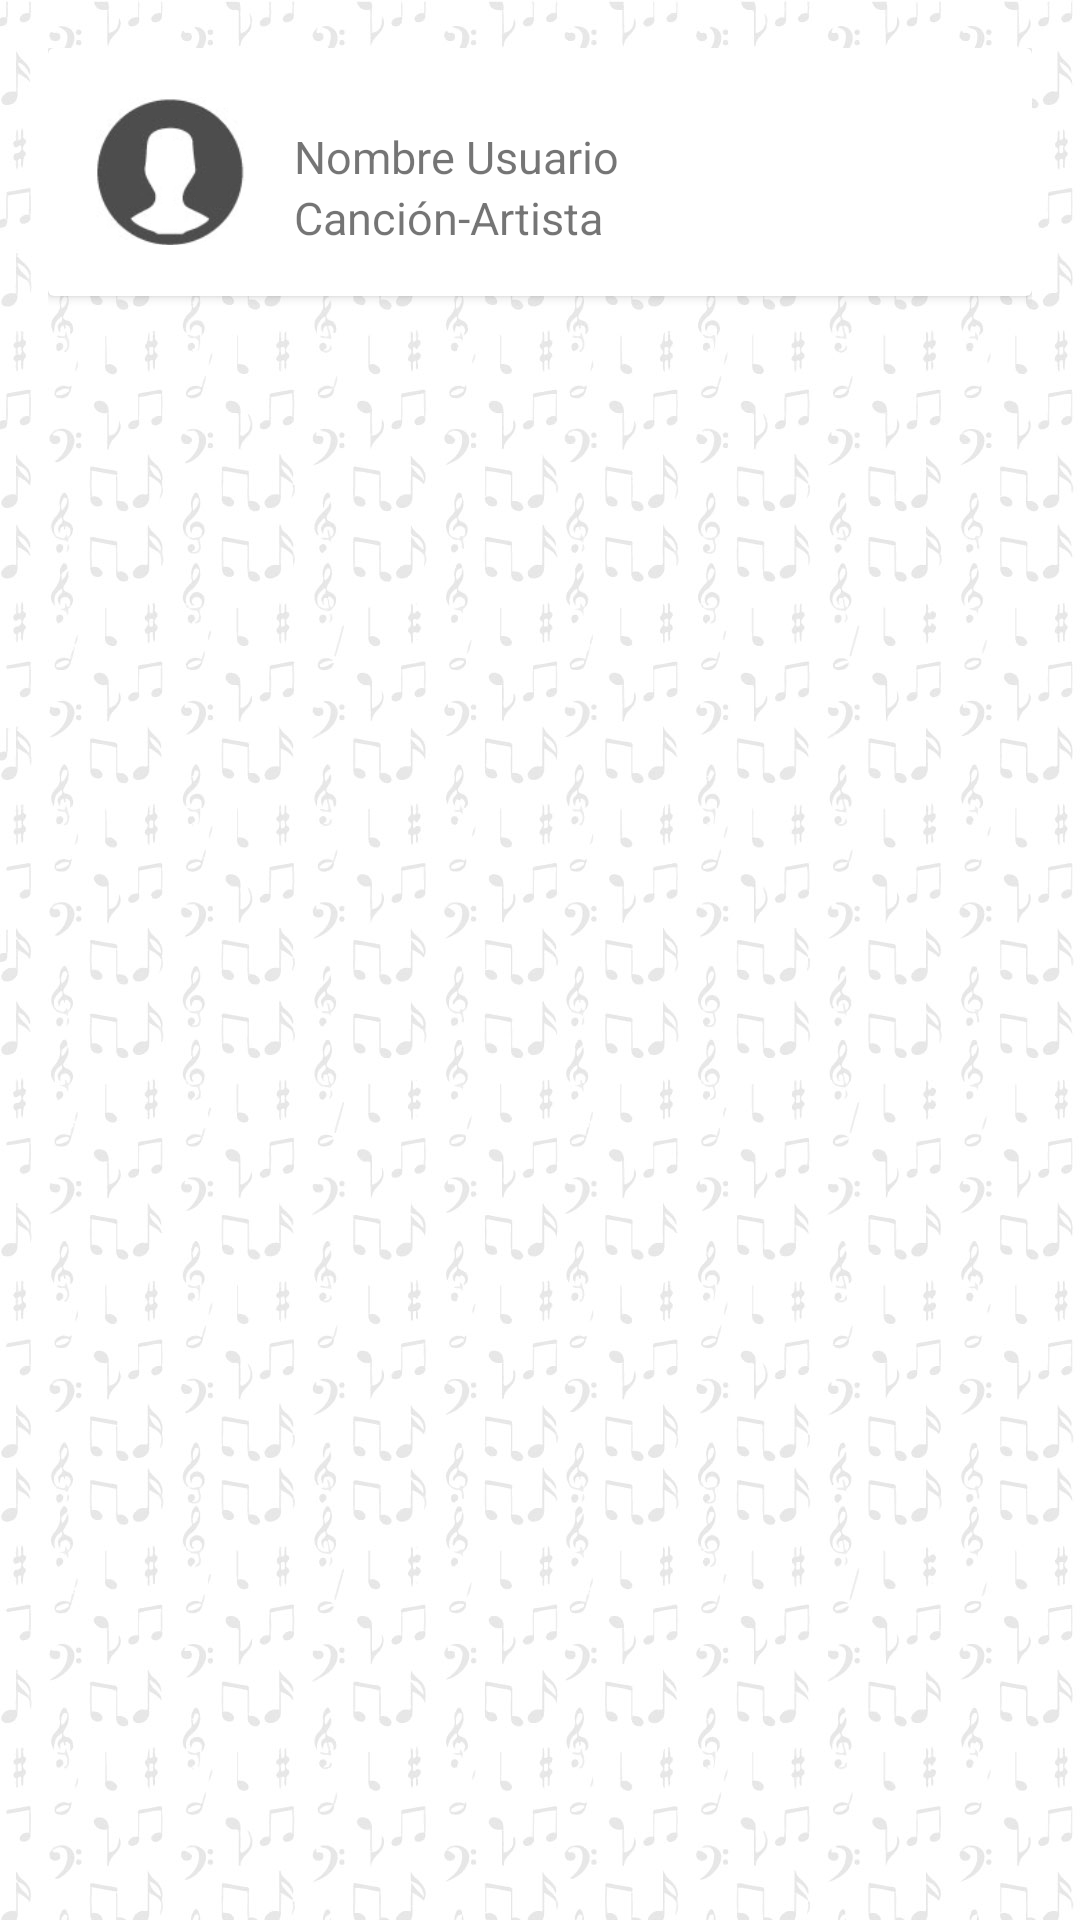

Icons on this 1080*1920 Android screen, each with its box as (x1, y1, x2, y2):
iconoparaperfil: (97, 99, 244, 245)
